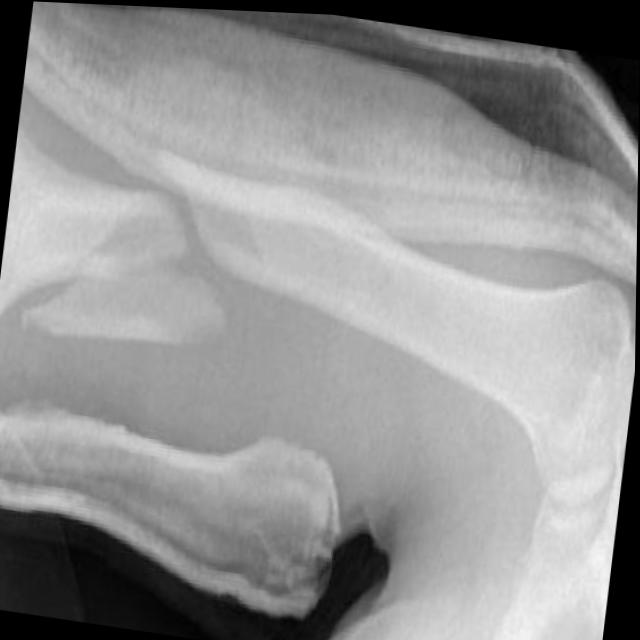fracture: (127, 154, 244, 359), (20, 193, 115, 342)
